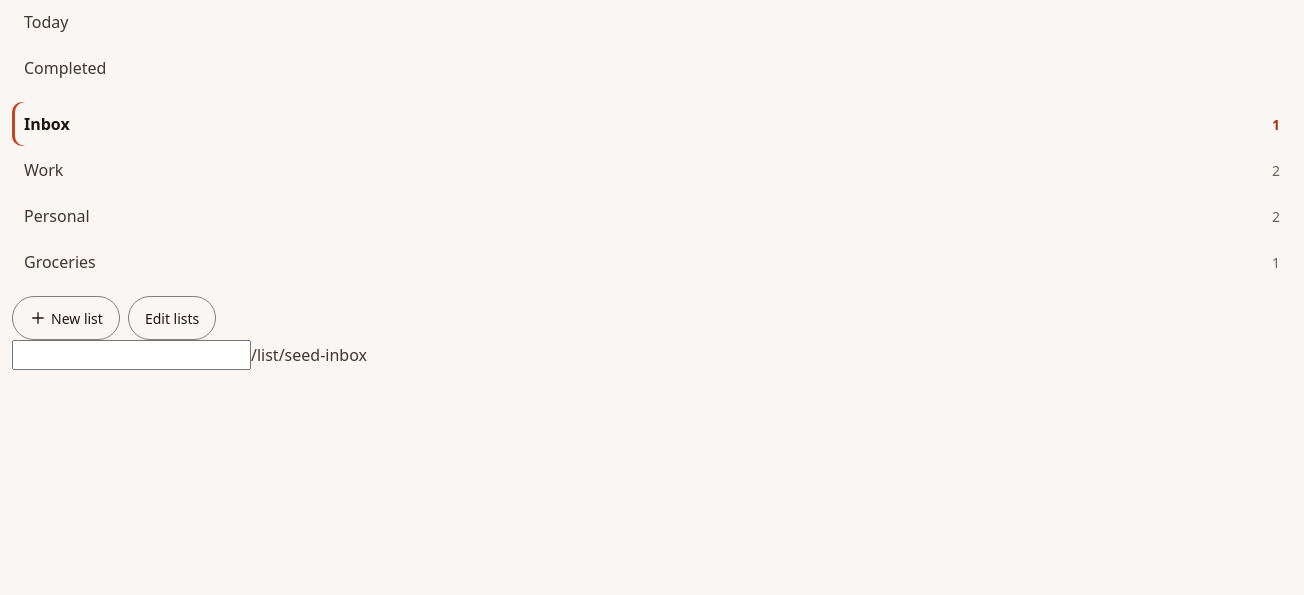
it: ListNav › editing › renames a list inline and marks it saved
The image size is (1304, 595).
Expected: the link "Work 2" is shown, x1=24 y1=159 x2=1280 y2=181
Click the button "Edit lists": coordinates (172, 318) x1=128 y1=296 x2=216 y2=340
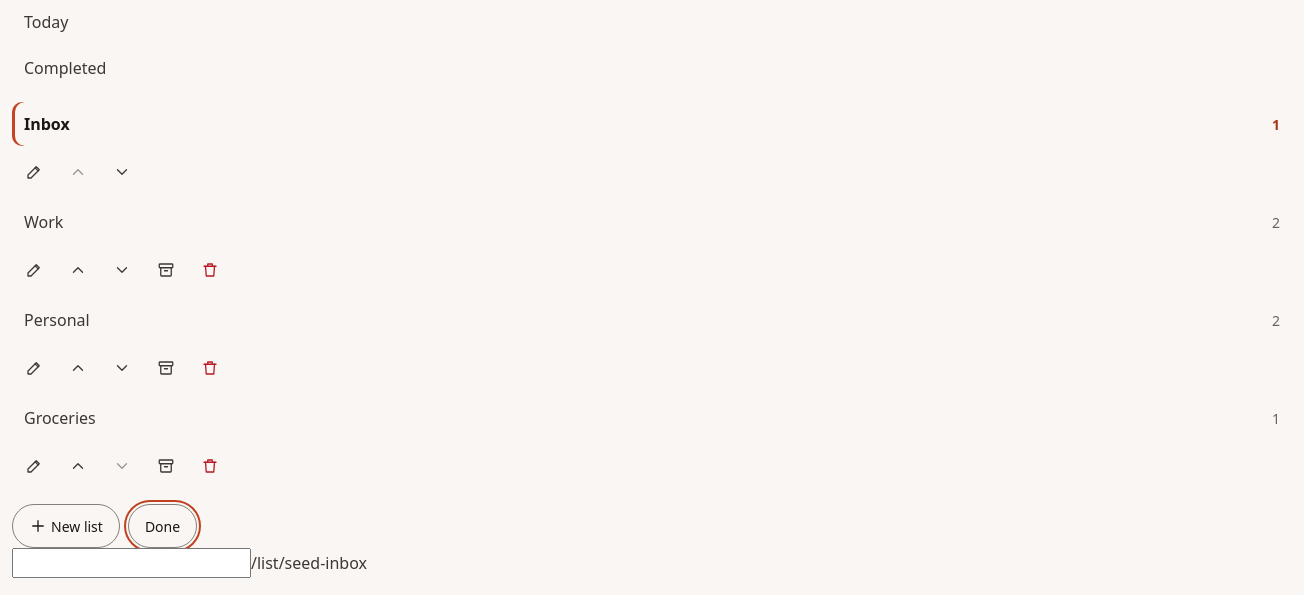
Click the button named "Rename Work": coordinates (34, 270) x1=12 y1=248 x2=56 y2=292
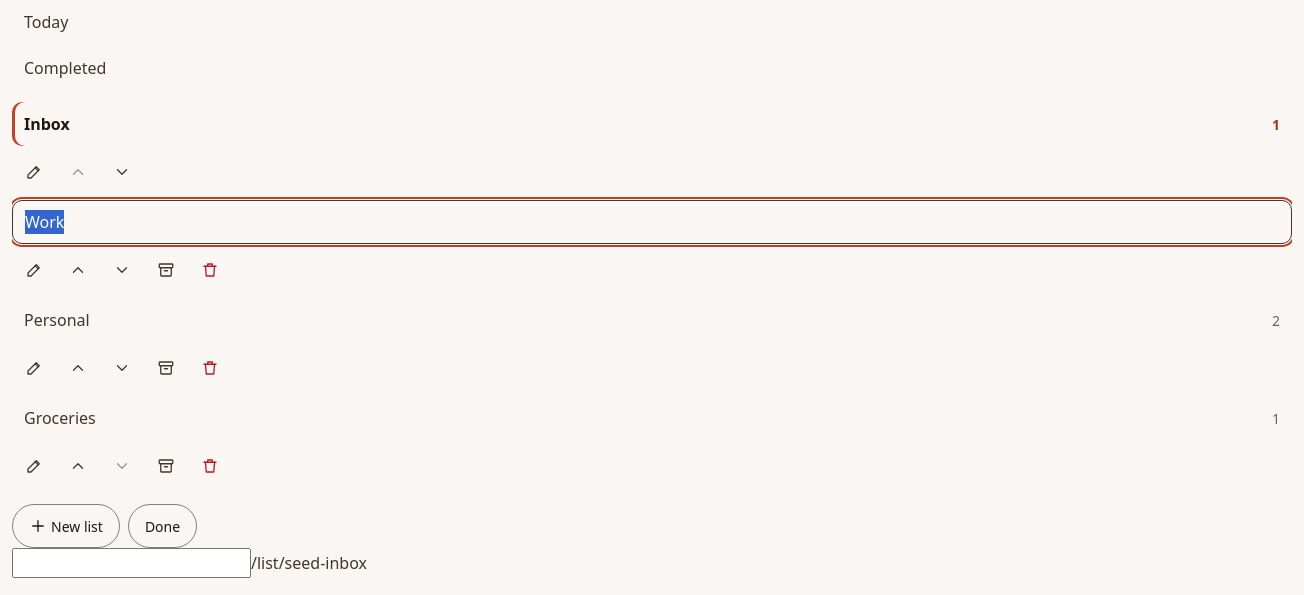
Clear the field named "Rename Work": coordinates (652, 222) x1=12 y1=200 x2=1292 y2=244
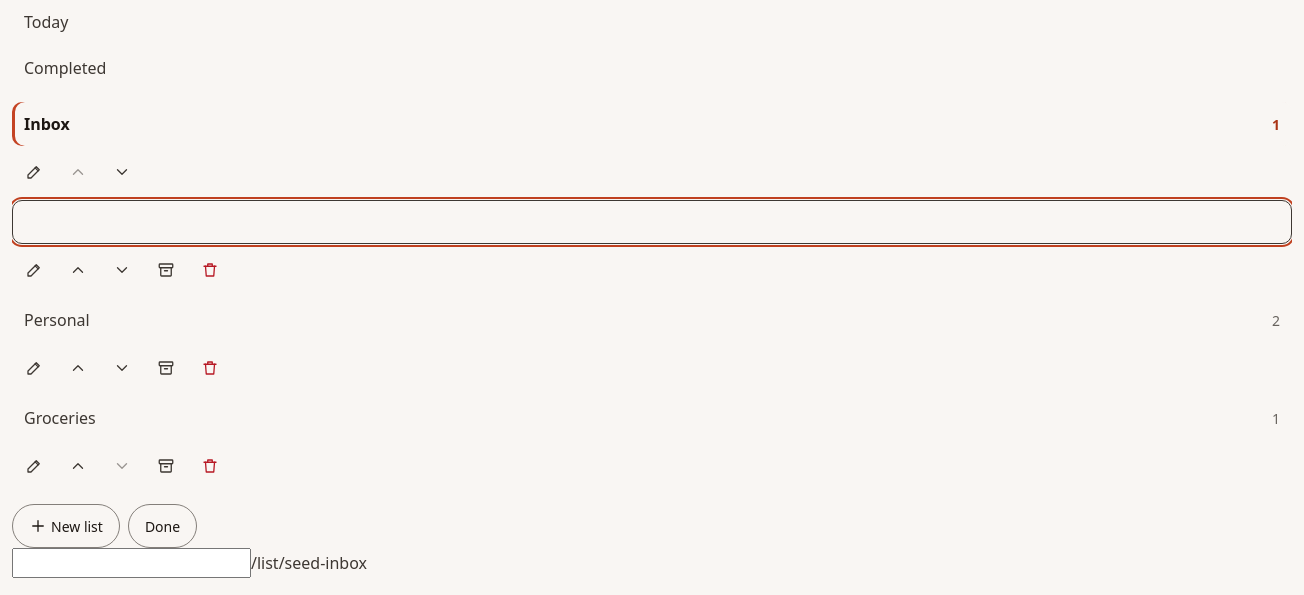
Type keys "Office{Enter}"
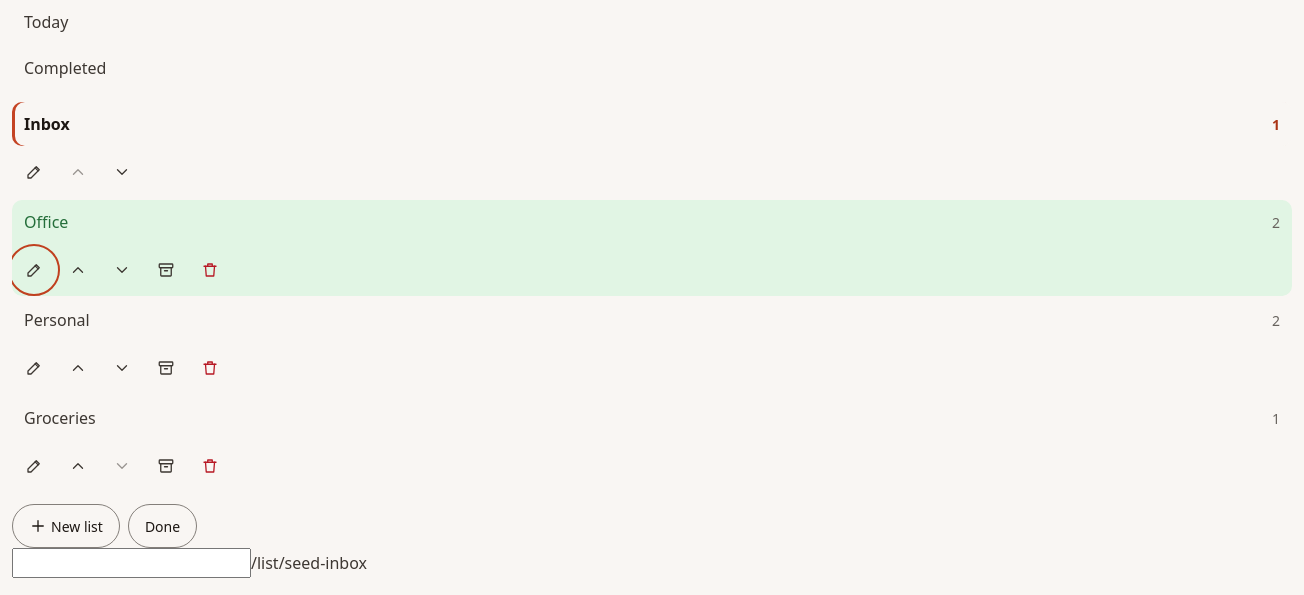
Result: the text "Office" is shown at x1=24 y1=211 x2=68 y2=233
